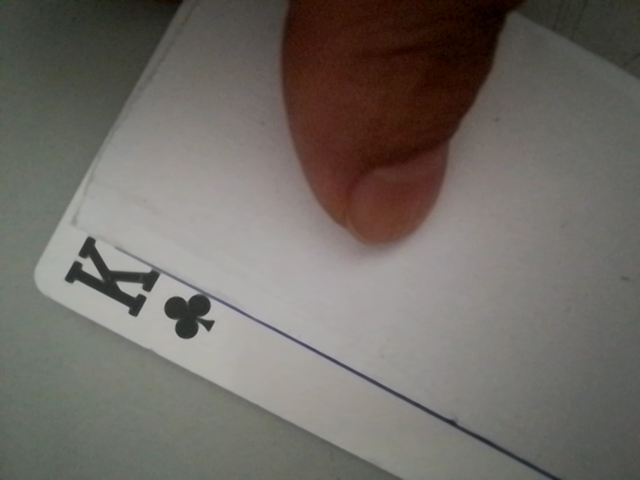mh k: (41, 235, 229, 351)
